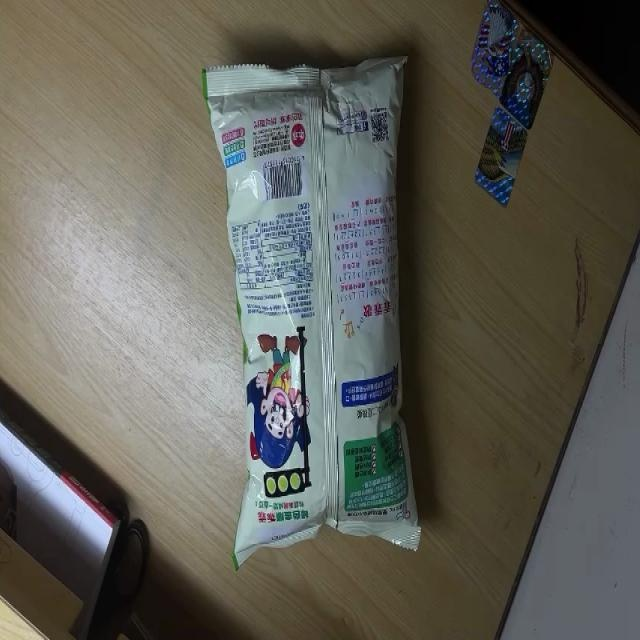Good-Luck: (200, 49, 430, 574)
